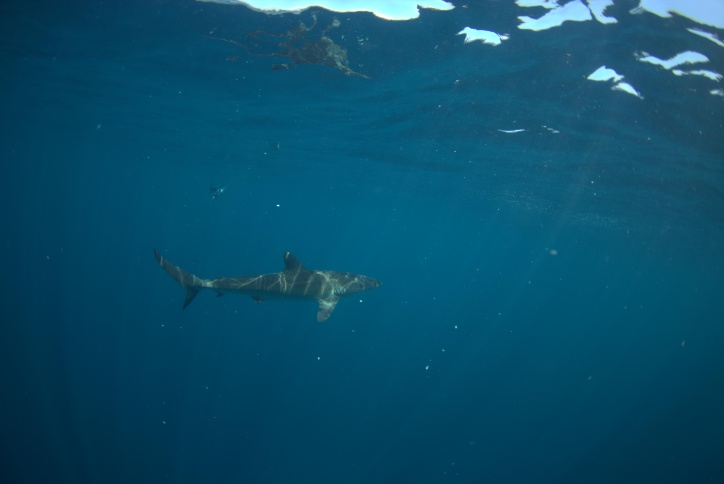Sedoso: (139, 231, 408, 336)
